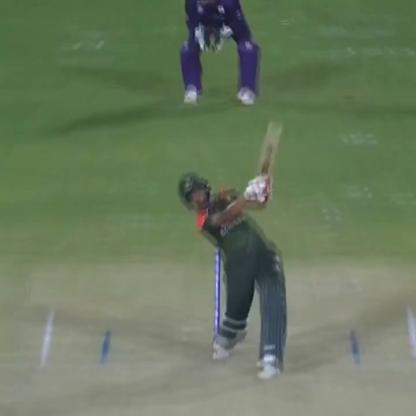bat: (245, 106, 292, 199)
pitch: (14, 304, 415, 416)
